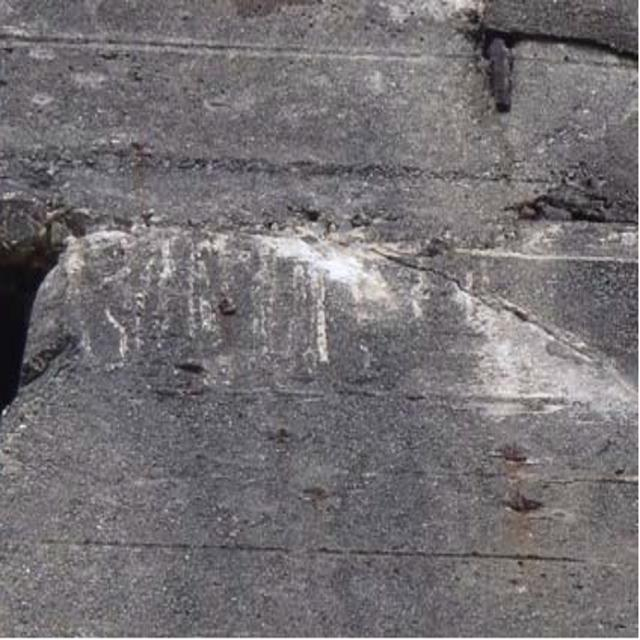freelime: (476, 309, 611, 454), (264, 223, 380, 327)
